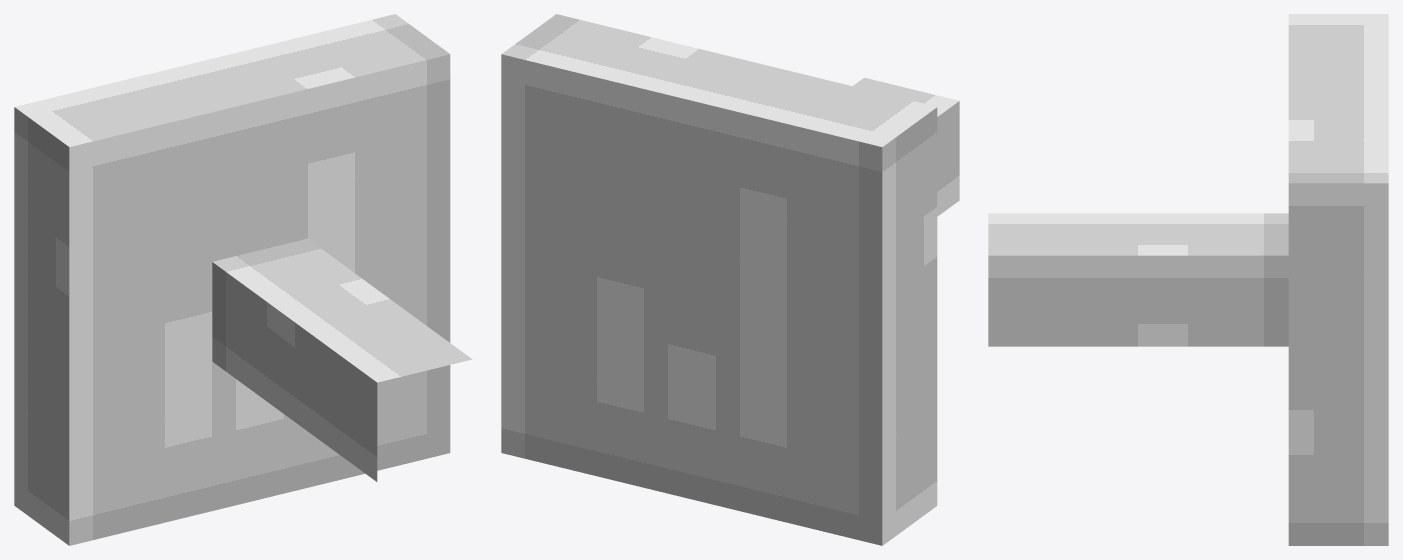
The model's file is block_template_piston_head_short.gltf.
3 renders of one model, left to right at view 1: azimuth 30°, elevation 25°; view 2: azimuth 150°, elevation 25°; view 3: azimuth 270°, elevation 25°, orthographic. The views are drawn at different scales.
Visible parts, largest first — view 1: cube (×2); view 2: cube (×2); view 3: cube (×2).
Part boxes in pixels (x1=…): cube (×2): x1=14, y1=14, x2=472, y2=545; cube (×2): x1=501, y1=14, x2=959, y2=545; cube (×2): x1=988, y1=14, x2=1388, y2=545.
Bounding box in the file's own units: 1 × 1 × 1.
Materials: 3 (3 with a texture image).
